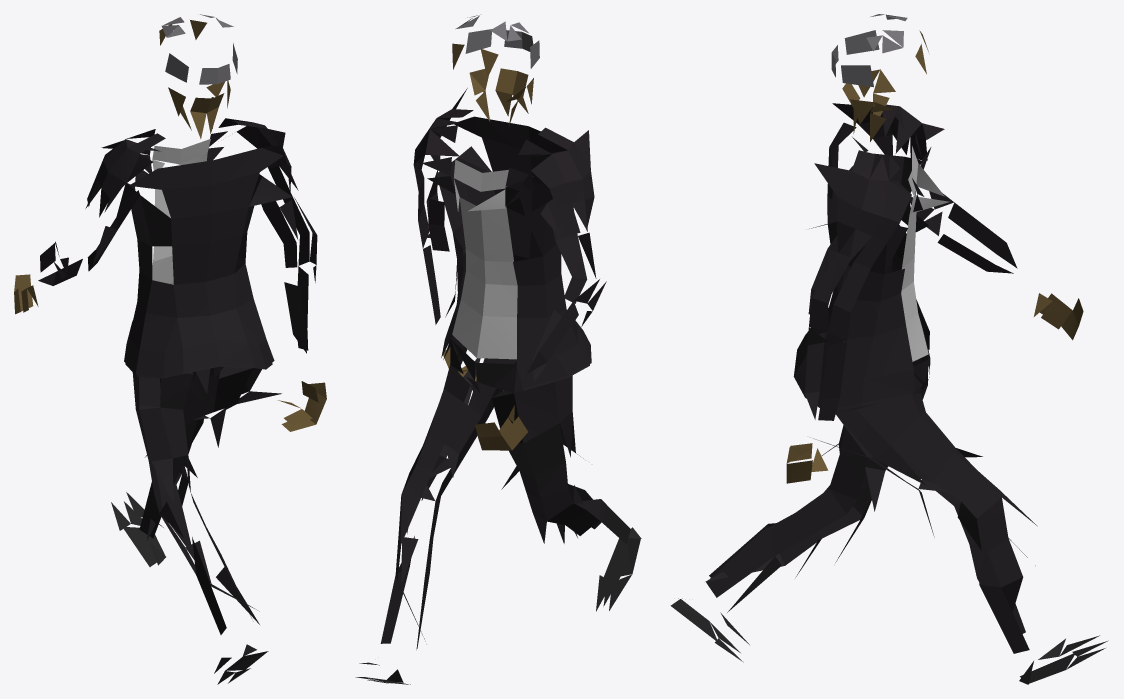
File: personfar_4_w3.fbx
3 renders of one model, left to right at view 1: azimuth 30°, elevation 25°; view 2: azimuth 150°, elevation 25°; view 3: azimuth 270°, elevation 25°, orthographic. The views are drawn at different scales.
Parts seen in each view (by area): view 1: BaseHuman; view 2: BaseHuman; view 3: BaseHuman.
Part boxes in pixels (x1=…): BaseHuman: x1=14, y1=14, x2=326, y2=684; BaseHuman: x1=355, y1=14, x2=641, y2=684; BaseHuman: x1=670, y1=14, x2=1108, y2=684.
Bounding box in the file's own units: 0.357 × 0.9774 × 0.5902.
